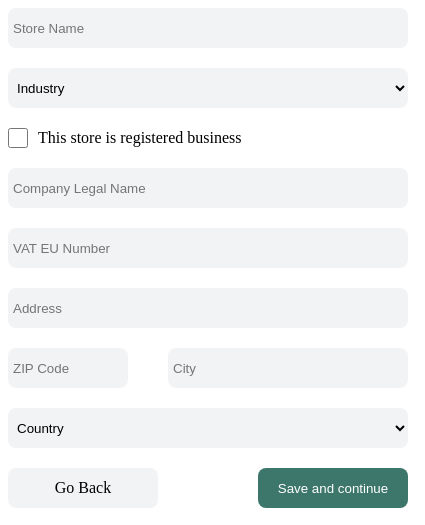
Test: Registration Form Tests › actions tests › should show the error on unchecking the 'is registered' checkbox
The image size is (425, 525).
Click the checkbox with test id "is-registered" at [18, 138], box [8, 128, 28, 148]
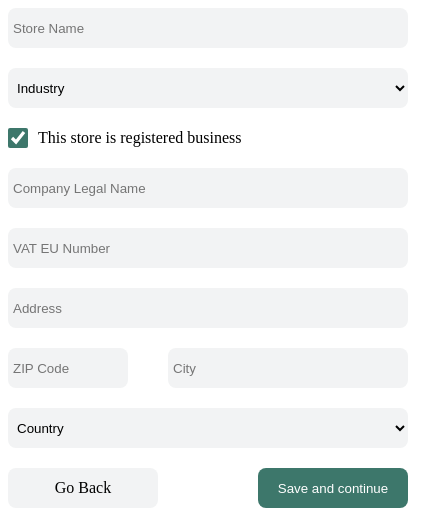
Click the checkbox with test id "is-registered" at [18, 138], box [8, 128, 28, 148]
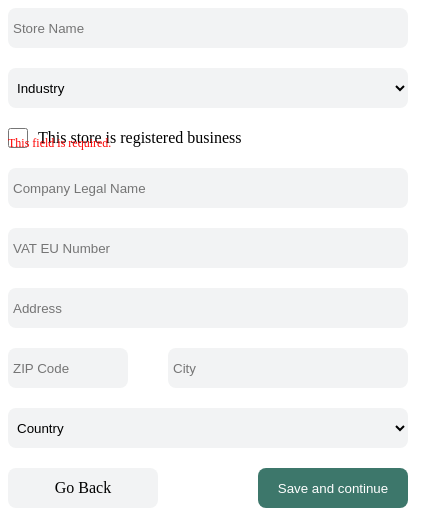
Result: the text "This field is required." is shown at [8, 136, 111, 151]
